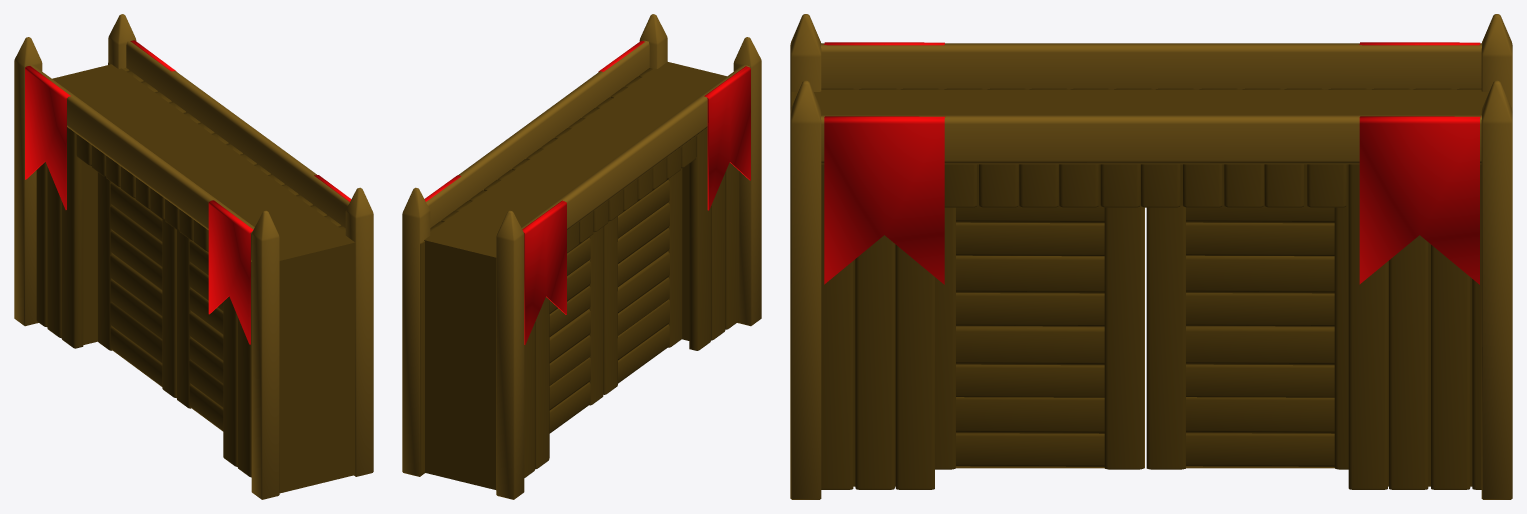
The model's file is Gate_Level1_RedTeam.fbx.
3 renders of one model, left to right at view 1: azimuth 30°, elevation 25°; view 2: azimuth 150°, elevation 25°; view 3: azimuth 270°, elevation 25°, orthographic. The views are drawn at different scales.
Visible parts, largest first — view 1: Gate_Level1_RedTeam; view 2: Gate_Level1_RedTeam; view 3: Gate_Level1_RedTeam.
Boxes of the visible parts, x1,y1,x2,y2 form: Gate_Level1_RedTeam: (14,14,373,499); Gate_Level1_RedTeam: (402,14,761,499); Gate_Level1_RedTeam: (790,14,1512,499).
Size of the model in its own units: 980 by 2350 by 3727.
